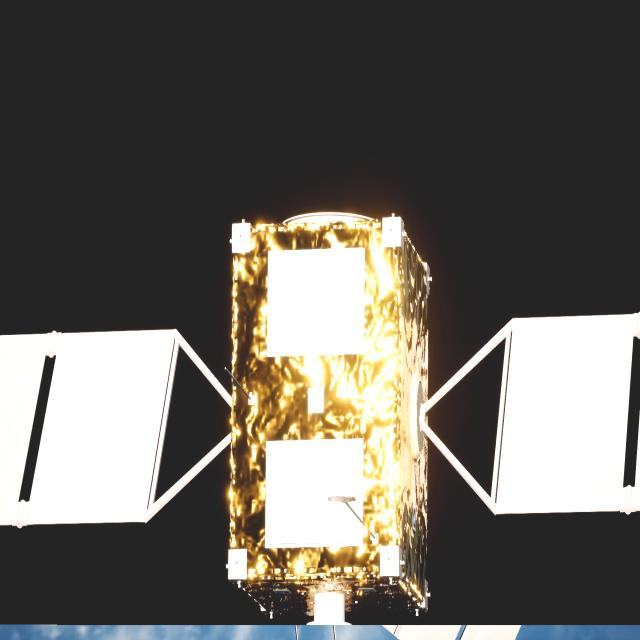satellite: (0, 213, 640, 622)
